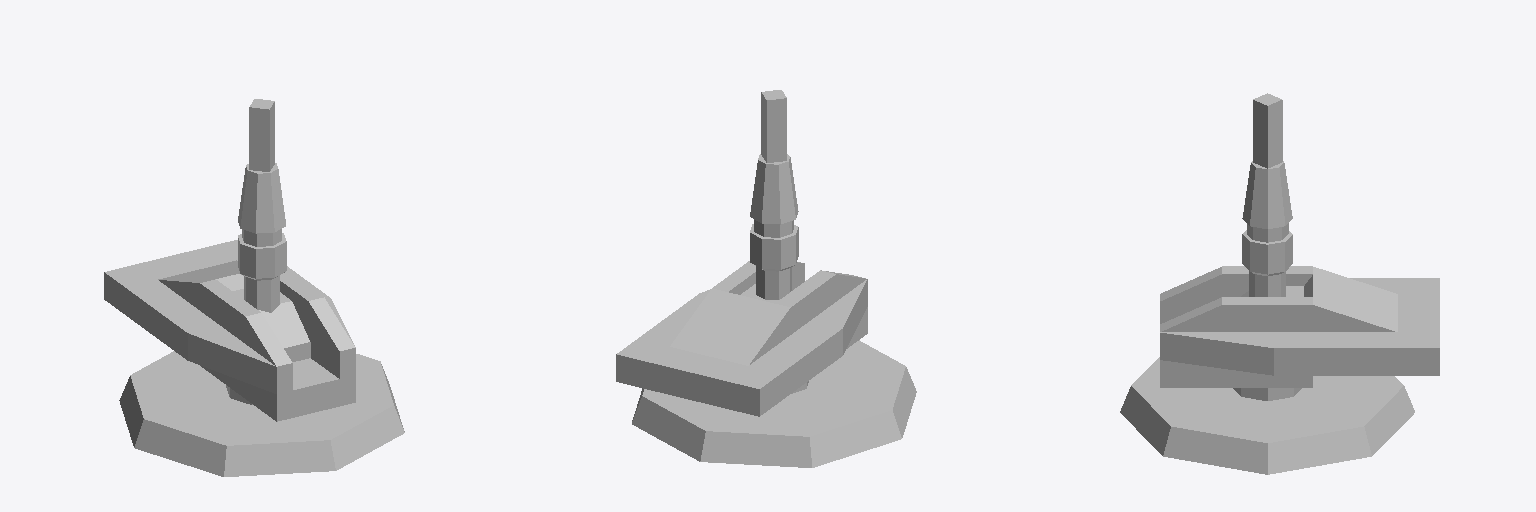
Rendered from turret_large1.obj.
3 views of the same model, side by side, from view 1: azimuth 30°, elevation 25°; view 2: azimuth 150°, elevation 25°; view 3: azimuth 270°, elevation 25° (orthographic).
Visible parts, largest first — view 1: turret_large1_body_Cube.001, turret_large1_base_Cylinder, turret_large1_barrel_Cylinder.001; view 2: turret_large1_body_Cube.001, turret_large1_base_Cylinder, turret_large1_barrel_Cylinder.001; view 3: turret_large1_body_Cube.001, turret_large1_base_Cylinder, turret_large1_barrel_Cylinder.001.
Part boxes in pixels (bbox=[...]): turret_large1_body_Cube.001: bbox=[104, 240, 355, 421]; turret_large1_base_Cylinder: bbox=[119, 351, 404, 476]; turret_large1_barrel_Cylinder.001: bbox=[238, 99, 286, 312]; turret_large1_body_Cube.001: bbox=[616, 261, 867, 416]; turret_large1_base_Cylinder: bbox=[632, 340, 916, 467]; turret_large1_barrel_Cylinder.001: bbox=[750, 90, 798, 299]; turret_large1_body_Cube.001: bbox=[1160, 266, 1439, 387]; turret_large1_base_Cylinder: bbox=[1120, 357, 1414, 474]; turret_large1_barrel_Cylinder.001: bbox=[1242, 93, 1292, 296].
Size of the model in its own units: 0.8 by 0.9338 by 0.8668.